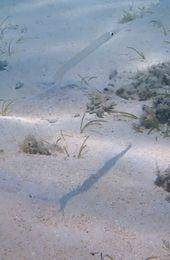Fistularia commersonii: (34, 9, 135, 132)
